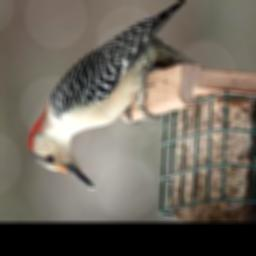Woodpecker: (26, 0, 197, 191)
